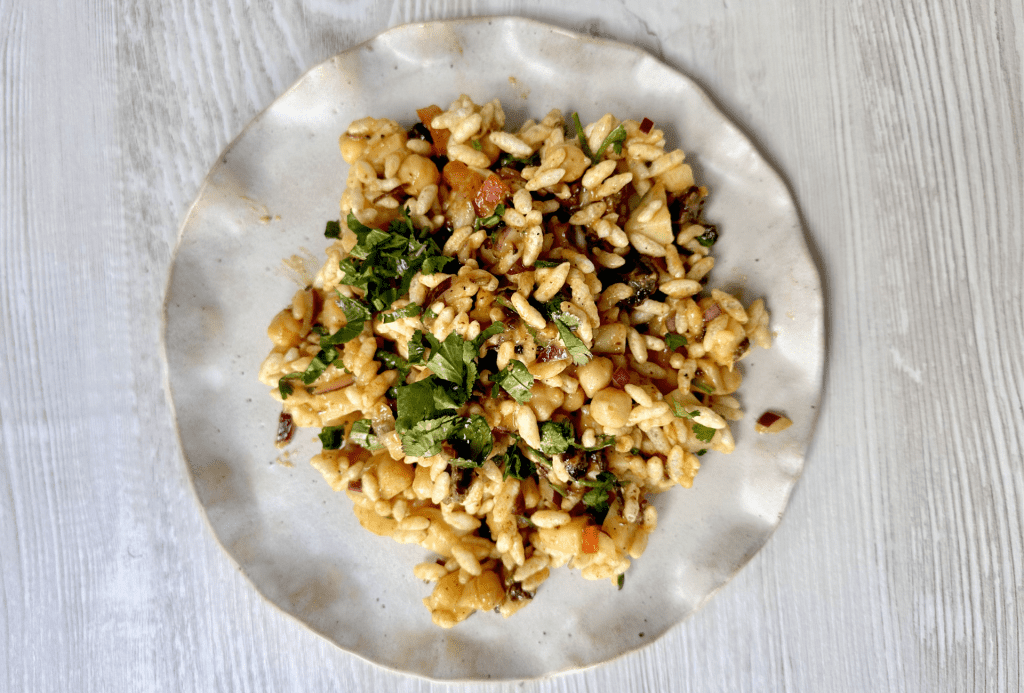chatpate: (245, 110, 730, 567)
